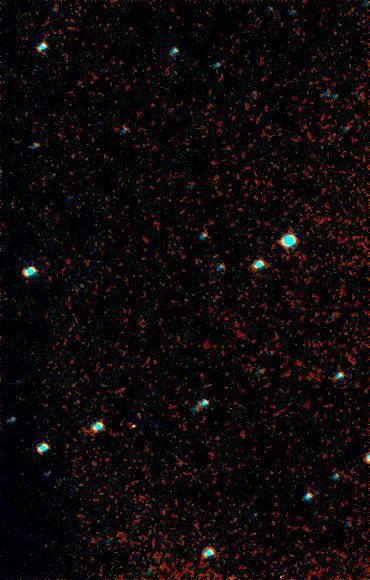star: (114, 417, 144, 447)
